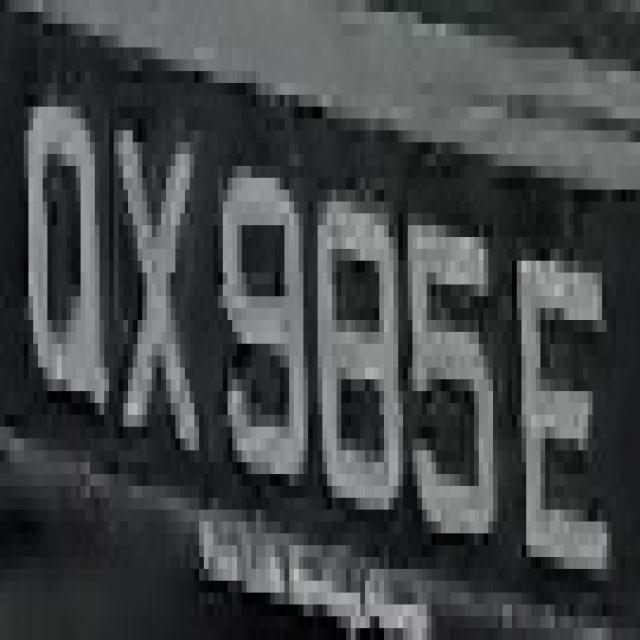5: (398, 190, 507, 569)
8: (313, 154, 412, 557)
9: (199, 130, 318, 510)
E: (512, 202, 616, 616)
Q: (14, 59, 114, 462)
X: (114, 71, 213, 498)
